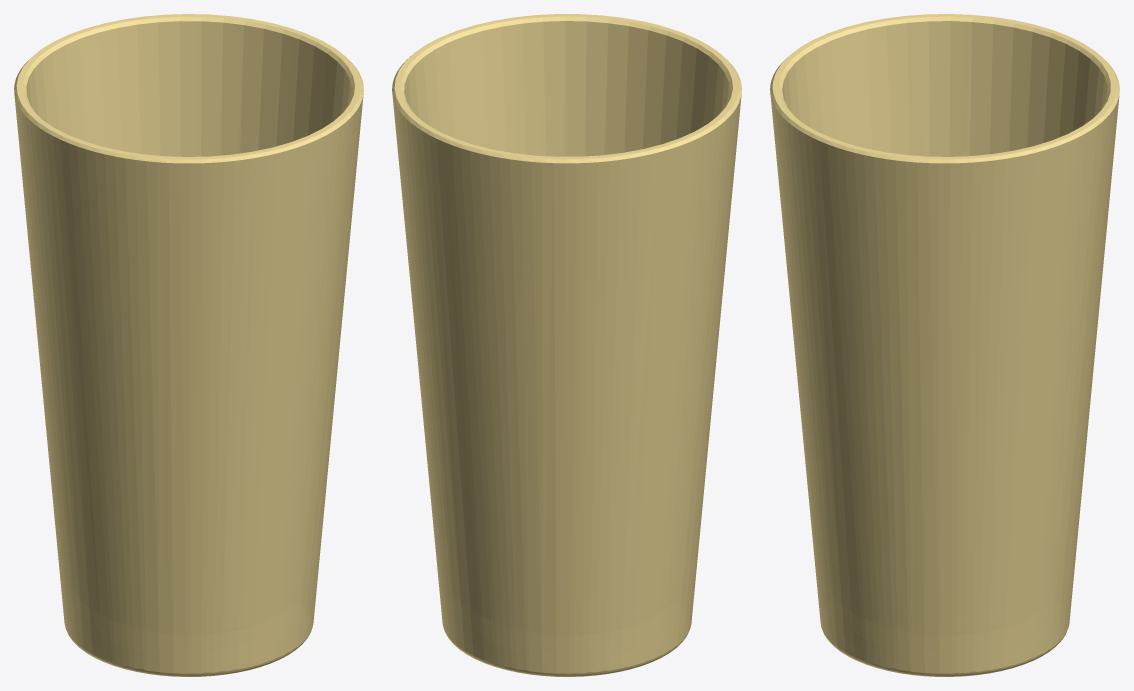
The model's file is BeerGlass.dae.
3 renders of one model, left to right at view 1: azimuth 30°, elevation 25°; view 2: azimuth 150°, elevation 25°; view 3: azimuth 270°, elevation 25°, orthographic.
Visible parts, largest first — view 1: BeerGlasses; view 2: BeerGlasses; view 3: BeerGlasses.
Part boxes in pixels (box(x1,y1,x2,y2)): BeerGlasses: box(14, 14, 363, 676); BeerGlasses: box(392, 14, 741, 676); BeerGlasses: box(770, 14, 1119, 676).
Bounding box in the file's own units: 0.0868 × 0.0869 × 0.148.
